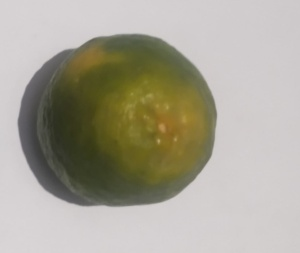BAD: (39, 32, 220, 212)
